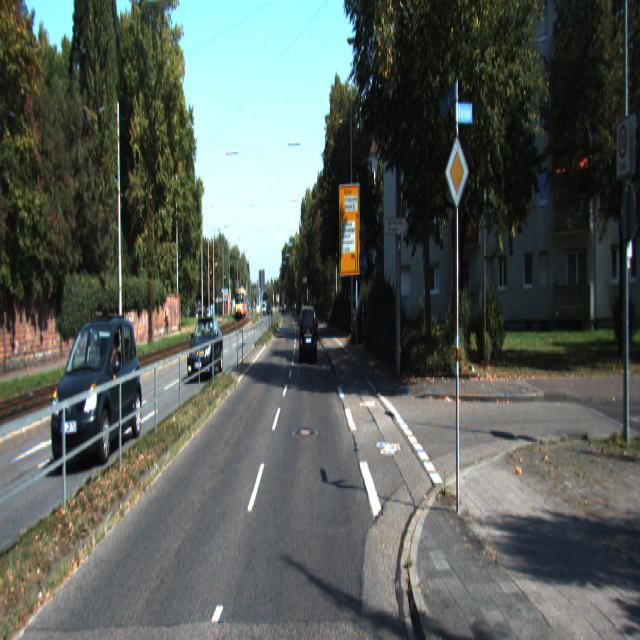Car: (52, 318, 142, 477), (188, 316, 224, 380), (300, 304, 318, 365)
